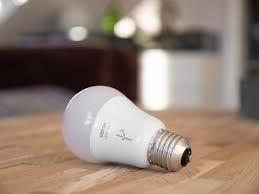Lamp: (61, 77, 197, 176)
